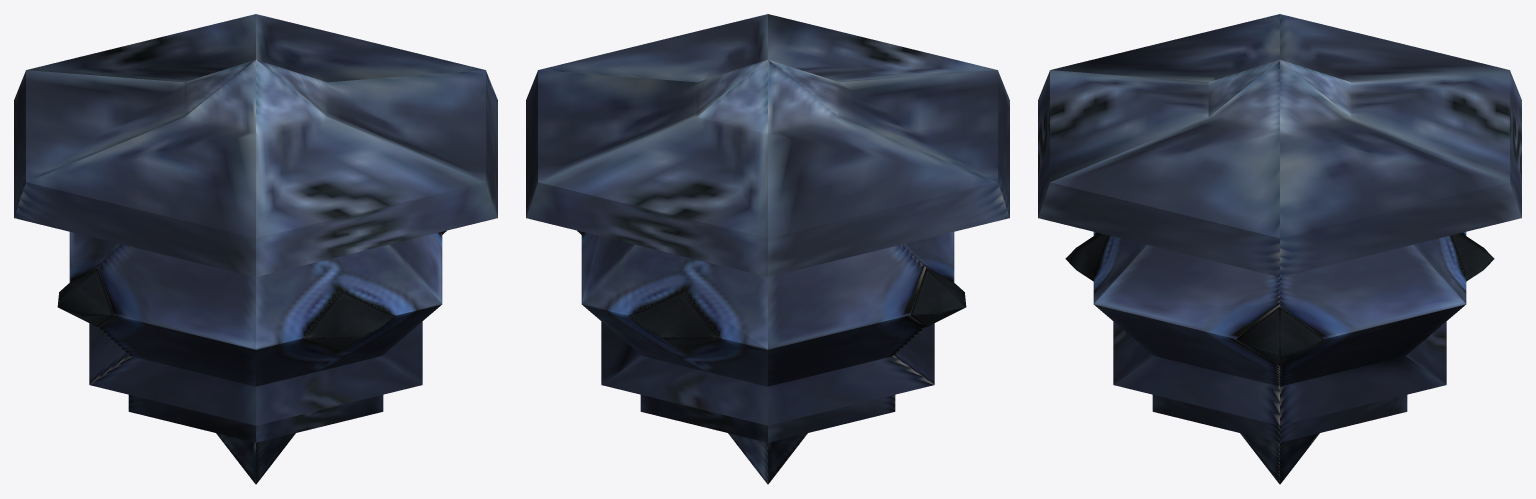
Rendered from blackstoneB.FBX.
The picture shows the model from 3 angles, left to right: view 1: azimuth 30°, elevation 25°; view 2: azimuth 150°, elevation 25°; view 3: azimuth 270°, elevation 25°; orthographic projection.
Visible parts, largest first — view 1: blackstoneB; view 2: blackstoneB; view 3: blackstoneB.
Boxes of the visible parts, x1=… form: blackstoneB: x1=14, y1=14, x2=497, y2=484; blackstoneB: x1=526, y1=14, x2=1009, y2=484; blackstoneB: x1=1038, y1=14, x2=1521, y2=484.
Bounding box in the file's own units: 368 × 309 × 319.
Materials: 1 (1 with a texture image).
